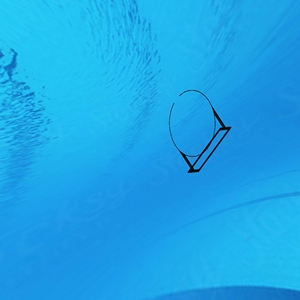circle: (167, 87, 235, 178)
